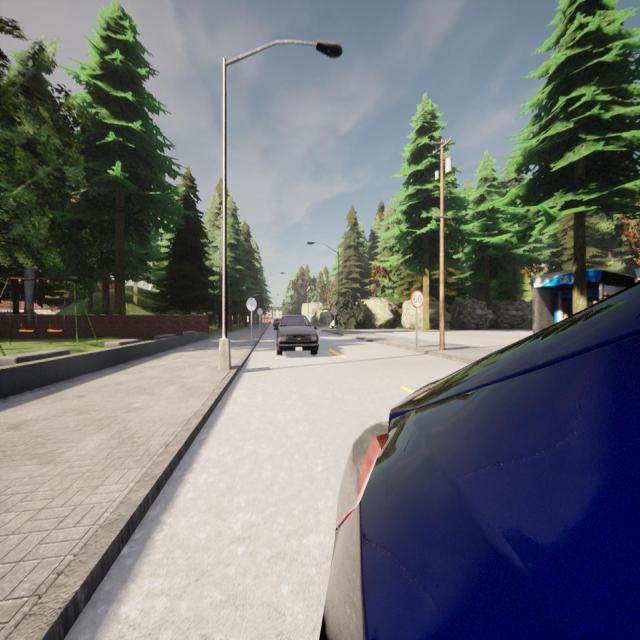Traffic_Signs: (410, 290, 424, 308), (246, 298, 257, 312), (332, 307, 338, 316), (257, 308, 263, 316)
Vehicle: (324, 283, 640, 638), (275, 314, 319, 355), (273, 319, 281, 330)
